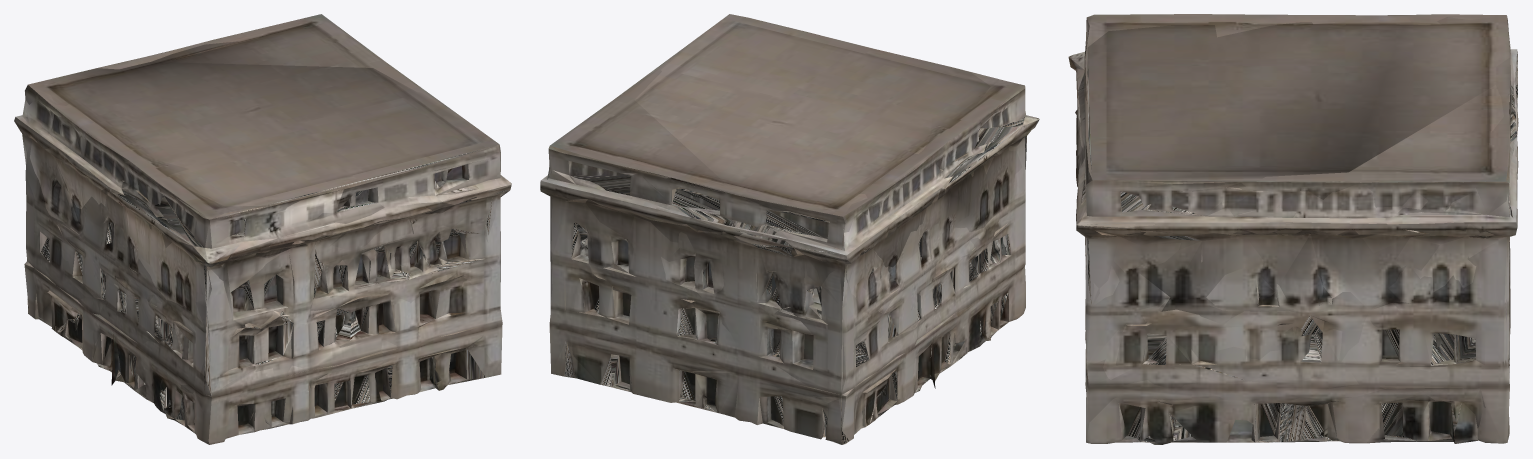
File: street_historic_building.glb
The picture shows the model from 3 angles, left to right: view 1: azimuth 30°, elevation 25°; view 2: azimuth 150°, elevation 25°; view 3: azimuth 270°, elevation 25°; orthographic projection. The views are drawn at different scales.
Parts seen in each view (by area): view 1: mesh_lod, turn; view 2: mesh_lod, turn; view 3: mesh_lod, turn.
Part boxes in pixels (x1,y1,x2,y2): mesh_lod: (15,15,509,429); turn: (14,14,511,444); mesh_lod: (541,14,1039,444); turn: (540,14,1039,444); mesh_lod: (1069,15,1517,443); turn: (1068,14,1518,444).
Bounding box in the file's own units: 16.45 × 12 × 17.95.
Materials: 1 (1 with a texture image).
